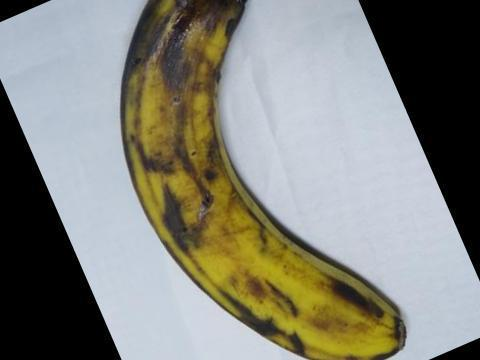overripe: (112, 0, 420, 359)
